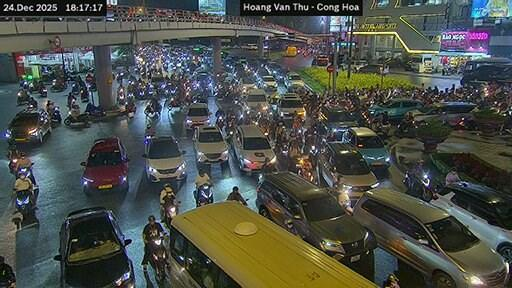motorbike: (403, 171, 435, 201), (150, 238, 166, 282), (16, 189, 34, 220), (160, 202, 178, 228), (295, 156, 313, 181), (16, 162, 35, 183), (195, 184, 211, 206), (64, 112, 89, 124), (394, 121, 415, 135), (370, 121, 390, 135), (85, 103, 105, 116), (144, 103, 159, 116), (7, 158, 18, 174), (51, 81, 67, 91), (16, 90, 28, 103), (124, 102, 134, 117), (51, 106, 60, 122), (70, 81, 80, 94), (80, 86, 88, 102), (167, 99, 181, 108), (135, 86, 144, 99), (144, 85, 153, 98), (28, 81, 38, 91), (117, 89, 124, 103), (39, 86, 47, 95), (19, 80, 28, 88), (89, 81, 96, 90), (86, 74, 93, 81)
